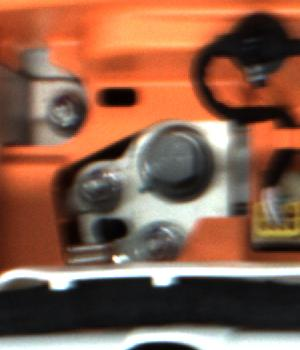nut_b: (131, 122, 221, 209)
screw_s: (71, 160, 120, 210), (37, 88, 84, 135), (137, 222, 180, 256)
